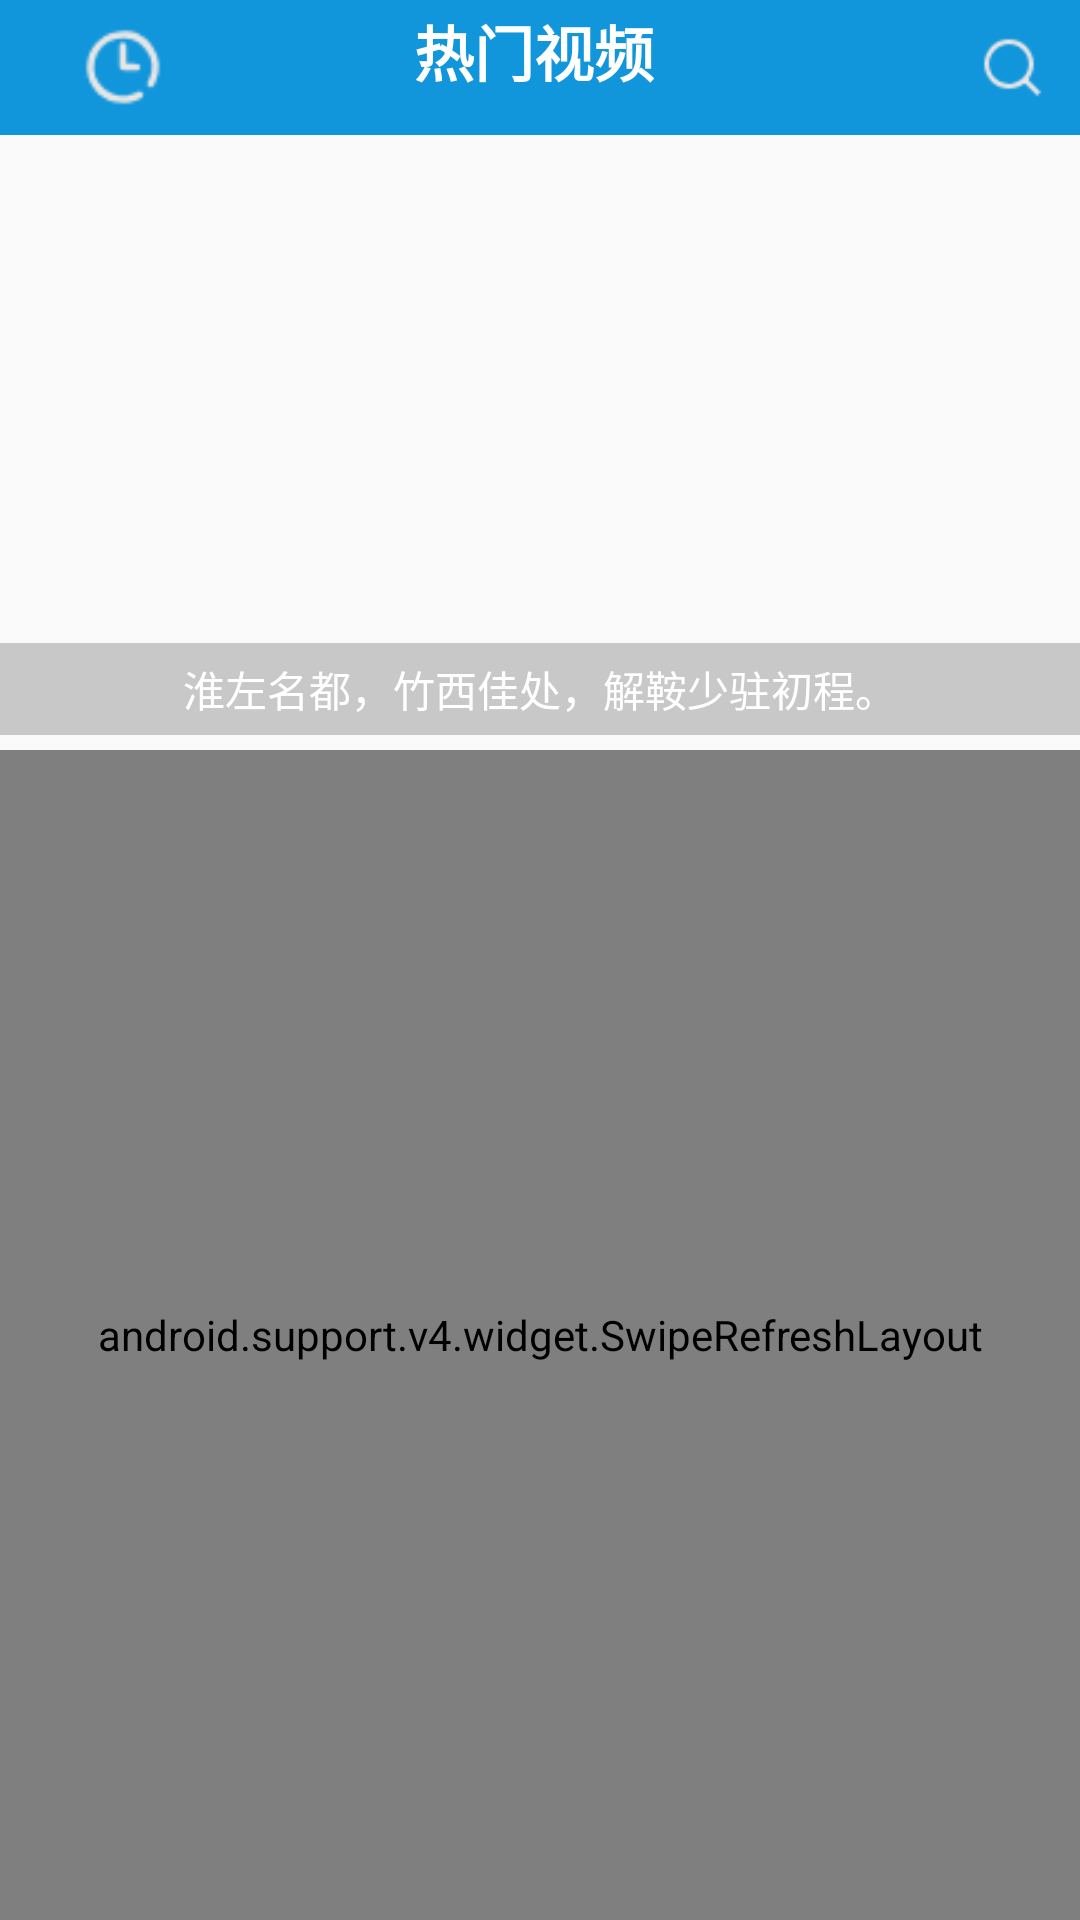

Where icons sit on this 1080 × 1920 app screen, as (x1, y1, x2, y2):
history: (85, 29, 161, 105)
search: (983, 38, 1041, 96)
